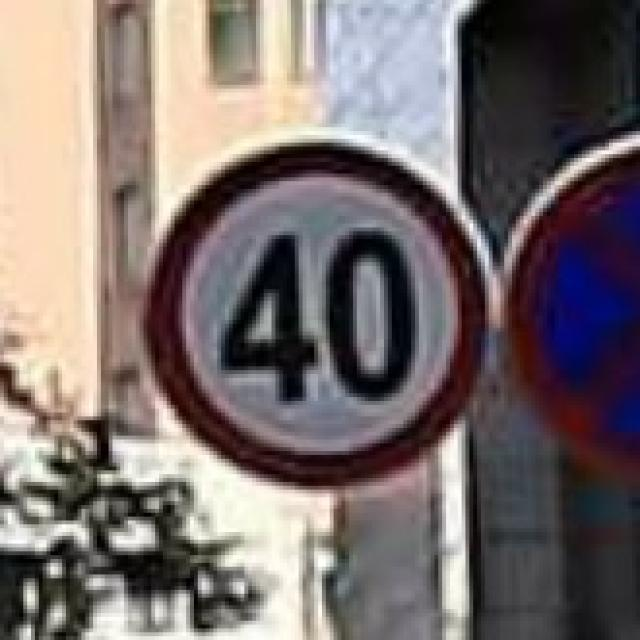Speed Limit -40-: (216, 225, 422, 406)
